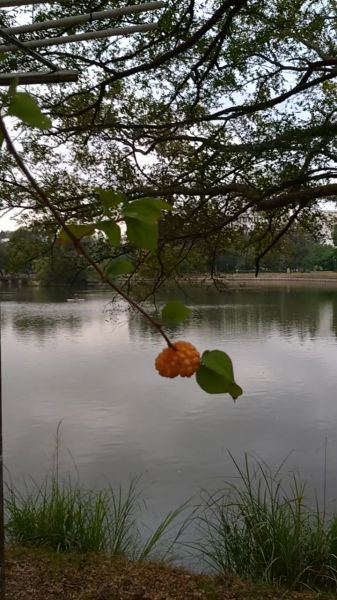eggs: (150, 334, 203, 384)
